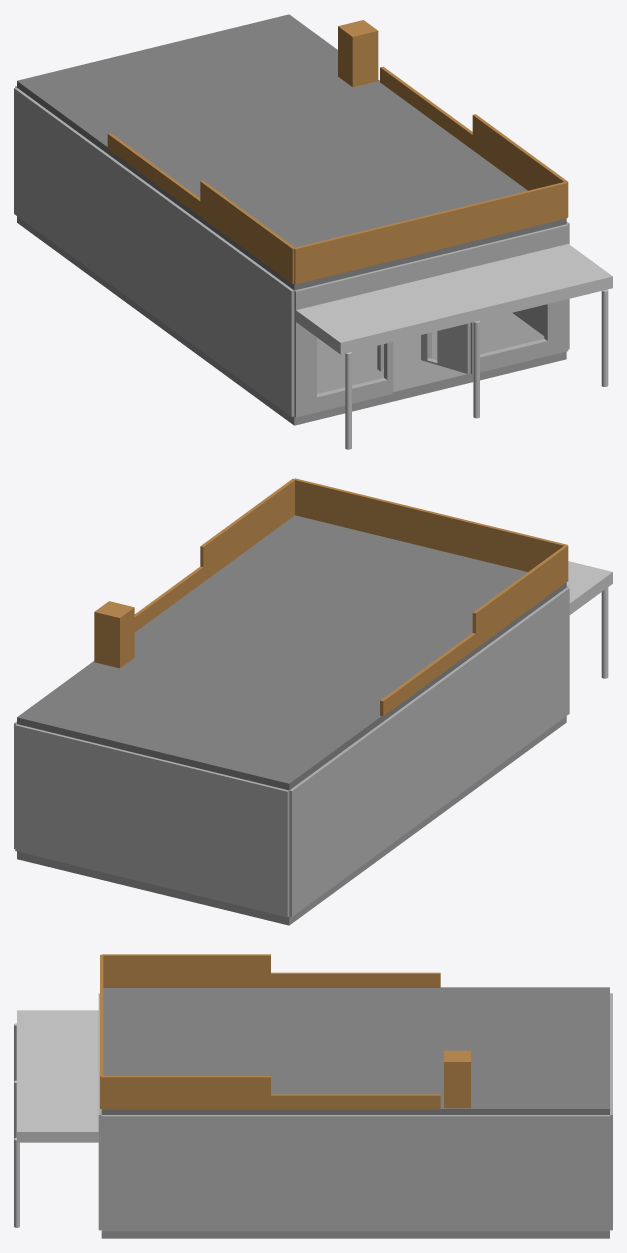
File: building_phase_1a_iter_011.glb
The picture shows the model from 3 angles, top to bottom: view 1: azimuth 30°, elevation 25°; view 2: azimuth 150°, elevation 25°; view 3: azimuth 270°, elevation 25°; orthographic projection. The views are drawn at different scales.
Parts seen in each view (by area): view 1: Roof, Wall_Left, Canopy_Roof, Wall_Front, Foundation, Parapet_Front, Parapet_Left_Front, Parapet_Right_Front, Chimney, Alcove_Wall_Right, Parapet_Left_Middle, Parapet_Right_Middle (+4 smaller); view 2: Roof, Wall_Left, Wall_Rear, Parapet_Front, Foundation, Parapet_Left_Front, Parapet_Right_Front, Chimney, Parapet_Left_Middle, Canopy_Roof, Parapet_Right_Middle, Canopy_Post_1; view 3: Wall_Right, Roof, Canopy_Roof, Parapet_Right_Front, Parapet_Left_Front, Foundation, Parapet_Left_Middle, Parapet_Right_Middle, Chimney, Wall_Front, Wall_Rear, Parapet_Front (+1 smaller).
Boxes of the visible parts, box(x1,y1,x2,y2) form: Roof: box(17, 14, 566, 290); Wall_Left: box(14, 87, 294, 416); Canopy_Roof: box(294, 244, 612, 354); Wall_Front: box(294, 224, 568, 417); Foundation: box(17, 216, 566, 425); Parapet_Front: box(294, 182, 567, 284); Parapet_Left_Front: box(200, 180, 295, 283); Parapet_Right_Front: box(472, 114, 568, 216); Chimney: box(338, 20, 378, 87); Alcove_Wall_Right: box(421, 323, 470, 373); Parapet_Left_Middle: box(107, 133, 200, 216); Parapet_Right_Middle: box(380, 66, 472, 149); Roof: box(17, 515, 566, 790); Wall_Left: box(289, 587, 569, 916); Wall_Rear: box(15, 724, 289, 917); Parapet_Front: box(295, 478, 567, 571); Foundation: box(17, 716, 566, 925); Parapet_Left_Front: box(472, 545, 568, 648); Parapet_Right_Front: box(200, 478, 295, 581); Chimney: box(94, 601, 134, 668); Parapet_Left_Middle: box(380, 633, 475, 716); Canopy_Roof: box(566, 561, 612, 614); Parapet_Right_Middle: box(134, 566, 203, 632); Canopy_Post_1: box(601, 587, 608, 678); Wall_Right: box(101, 1115, 609, 1231); Roof: box(101, 987, 609, 1114); Canopy_Roof: box(17, 1010, 101, 1142); Parapet_Right_Front: box(101, 1076, 270, 1109); Parapet_Left_Front: box(101, 954, 270, 987); Foundation: box(101, 1231, 609, 1238); Parapet_Left_Middle: box(271, 972, 440, 987); Parapet_Right_Middle: box(271, 1094, 440, 1109); Chimney: box(444, 1050, 470, 1108); Wall_Front: box(98, 993, 101, 1230); Wall_Rear: box(610, 993, 612, 1230); Parapet_Front: box(100, 955, 103, 1108).
Size of the model in its own units: 8.68 by 5.73 by 17.68.
